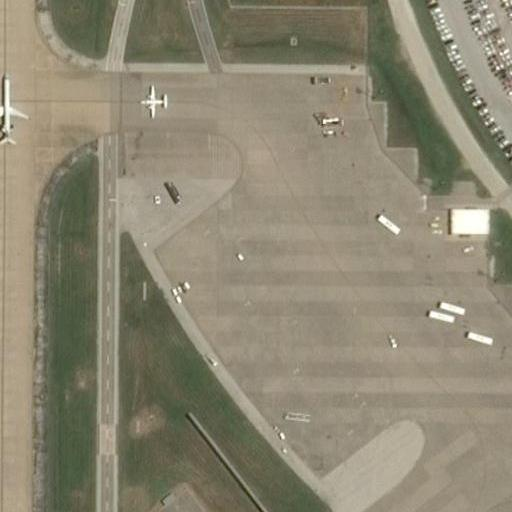Aircraft: (0, 76, 29, 144), (138, 81, 168, 120)
